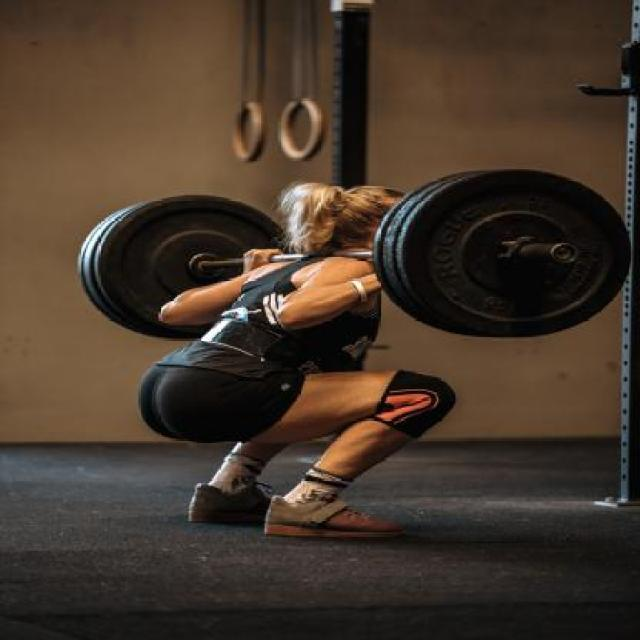barbell: (367, 162, 640, 342)
